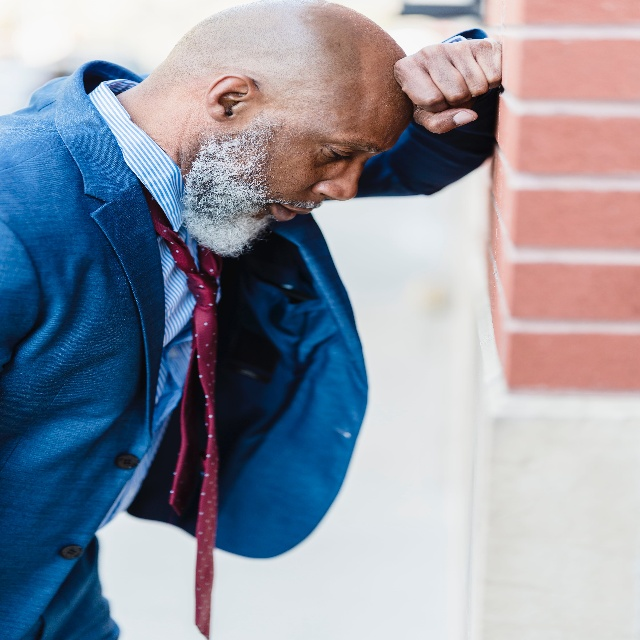Sin_guantes: (396, 32, 504, 144)
